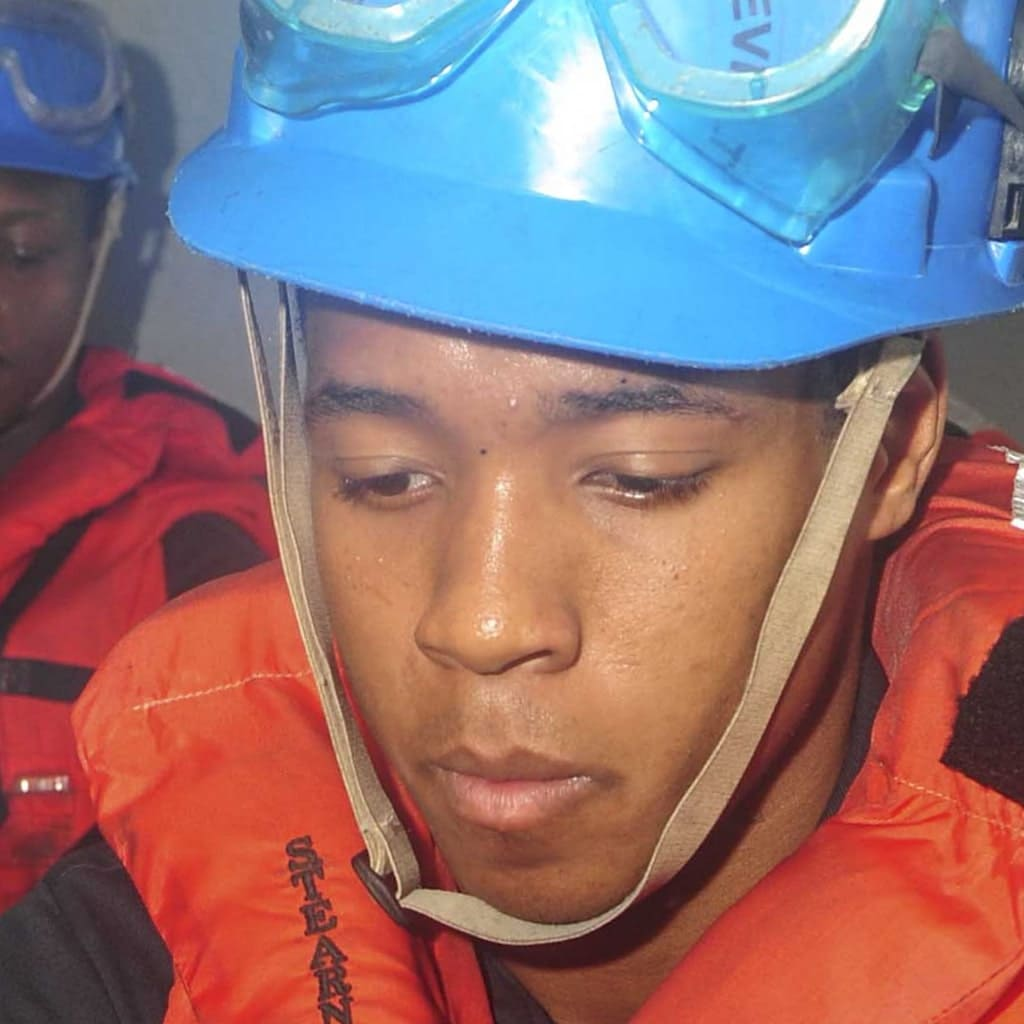without_mask: (310, 280, 905, 1024)
